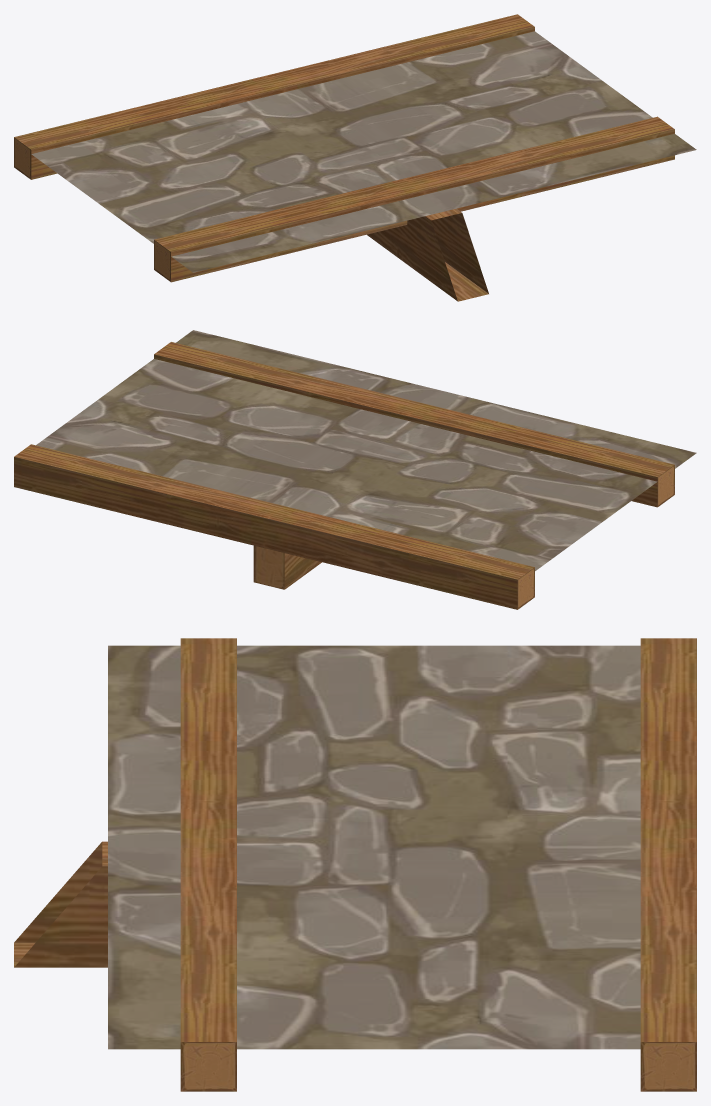
Rendered from roof-qm-overhangroofinclineunevenbricks.glb.
3 renders of one model, top to bottom at view 1: azimuth 30°, elevation 25°; view 2: azimuth 150°, elevation 25°; view 3: azimuth 270°, elevation 25°, orthographic. The views are drawn at different scales.
Visible parts, largest first — view 1: Cube_136; view 2: Cube_136; view 3: Cube_136.
Boxes of the visible parts, x1,y1,x2,y2 form: Cube_136: [14, 14, 696, 301]; Cube_136: [14, 330, 696, 609]; Cube_136: [14, 638, 696, 1091].
Bounding box in the file's own units: 2 × 0.2659 × 1.43.
Materials: 2 (2 with a texture image).
